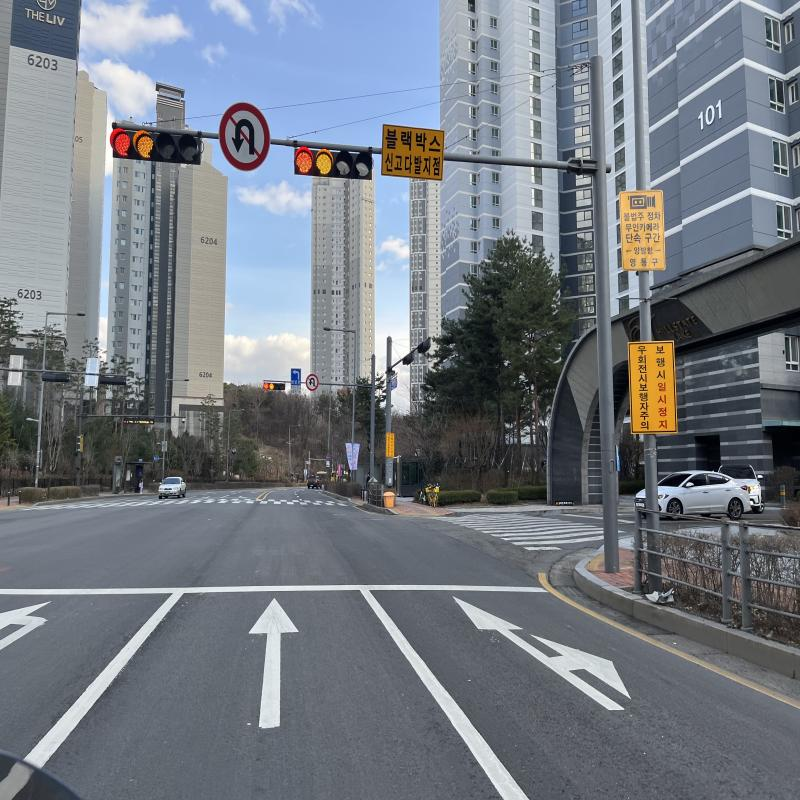red: (295, 150, 313, 175), (114, 130, 130, 158), (264, 382, 269, 388)
yellow: (134, 132, 158, 158), (314, 151, 336, 174), (269, 383, 274, 389)
